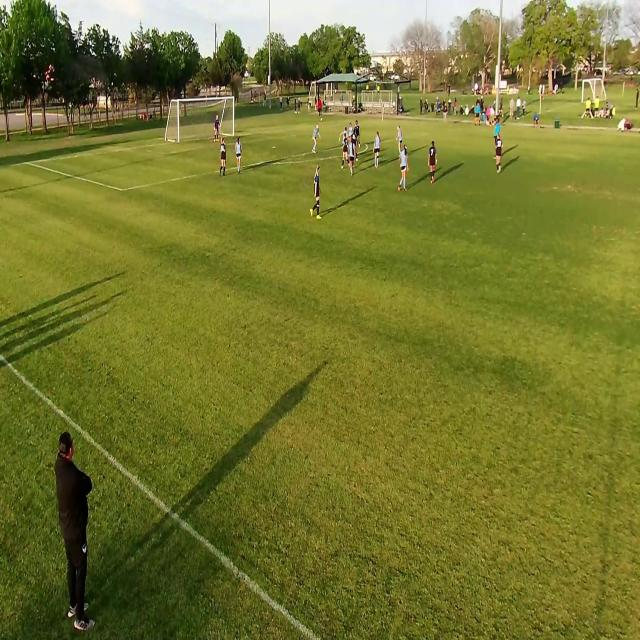ball: (320, 116, 323, 122)
team1: (312, 166, 324, 220), (429, 141, 440, 186), (496, 133, 507, 173), (220, 138, 229, 178), (340, 135, 350, 171), (354, 121, 362, 148)
team2: (400, 141, 411, 192), (348, 136, 358, 178), (234, 136, 243, 176), (374, 130, 382, 169), (311, 122, 320, 154), (398, 122, 406, 157), (348, 121, 353, 135), (341, 126, 348, 135)
